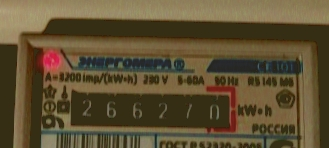0: (208, 100, 223, 120)
2: (81, 96, 95, 117), (158, 99, 172, 120)
6: (106, 97, 119, 119), (132, 99, 146, 118)
7: (184, 100, 195, 119)
screen: (60, 78, 244, 137)
